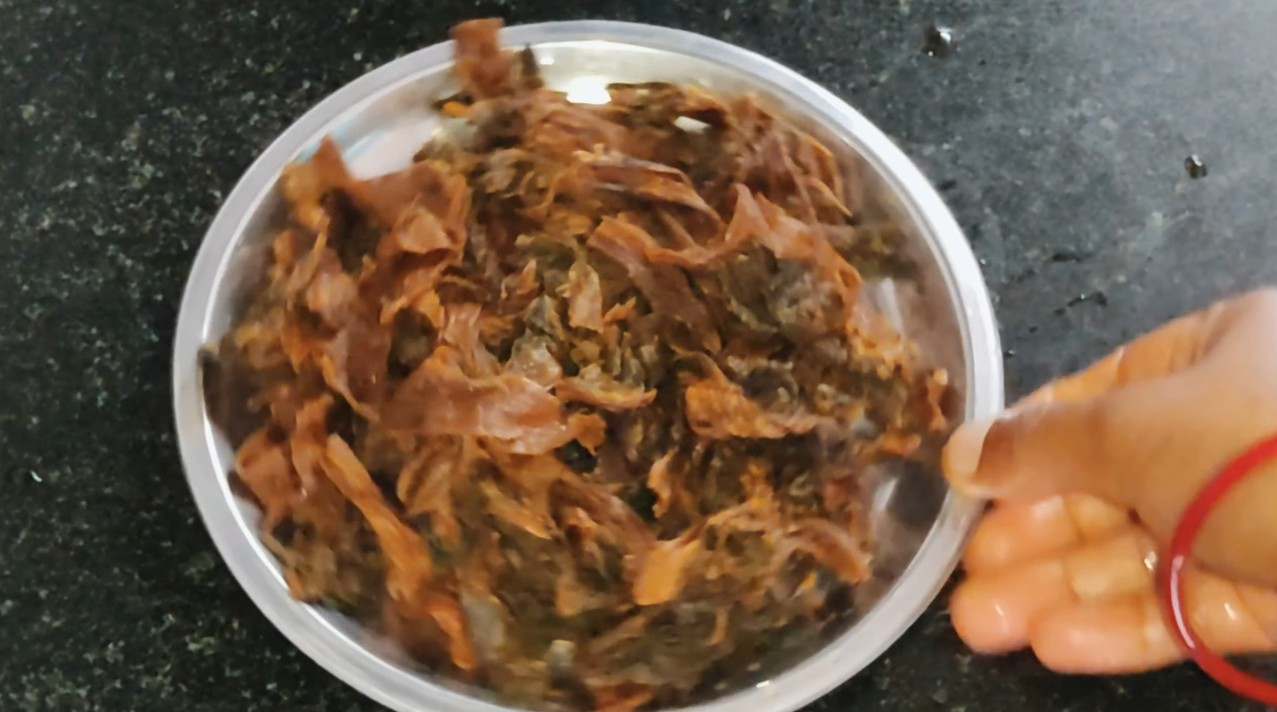gundruk: (257, 83, 883, 632)
